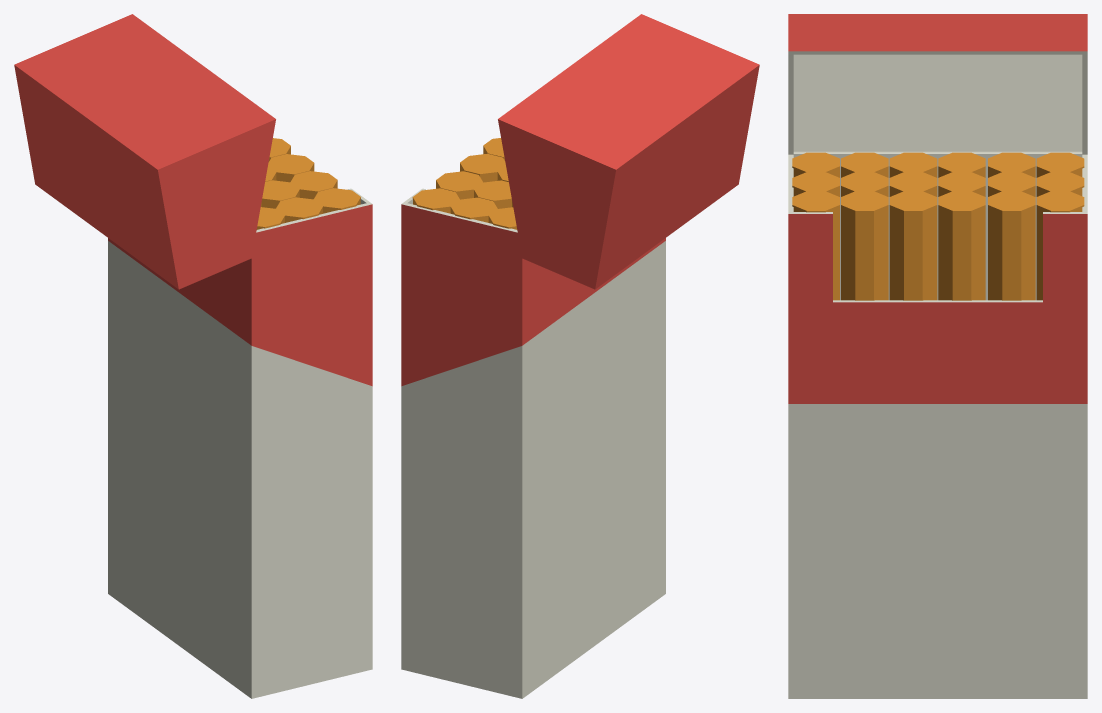
File: cigpack.glb
3 views of the same model, side by side, from view 1: azimuth 30°, elevation 25°; view 2: azimuth 150°, elevation 25°; view 3: azimuth 270°, elevation 25° (orthographic). The views are drawn at different scales.
Parts seen in each view (by area): view 1: Cube.020, Cube.021, Cube.002, Cube.004, Cube.005, Cube.010, Cube.013; view 2: Cube.020, Cube.021, Cube.006, Cube.007, Cube.012, Cube.003, Cube.008; view 3: Cube.020, Cube.001, Cube.021, Cube.004, Cube.006, Cube.002, Cube.007, Cube.003, Cube.005, Cube.016, Cube.011, Cube.014 (+9 smaller).
Boxes of the visible parts, bbox=[...] form: Cube.020: bbox=[108, 188, 372, 698]; Cube.021: bbox=[14, 14, 275, 289]; Cube.002: bbox=[290, 171, 337, 199]; Cube.004: bbox=[268, 154, 314, 182]; Cube.005: bbox=[313, 188, 360, 213]; Cube.010: bbox=[276, 197, 322, 222]; Cube.013: bbox=[261, 180, 299, 208]; Cube.020: bbox=[401, 188, 665, 698]; Cube.021: bbox=[498, 14, 759, 289]; Cube.006: bbox=[460, 153, 505, 182]; Cube.007: bbox=[436, 171, 483, 199]; Cube.012: bbox=[450, 197, 497, 222]; Cube.003: bbox=[412, 188, 459, 213]; Cube.008: bbox=[474, 180, 511, 208]; Cube.020: bbox=[788, 152, 1087, 698]; Cube.001: bbox=[788, 51, 1087, 154]; Cube.021: bbox=[788, 14, 1087, 51]; Cube.004: bbox=[889, 191, 937, 300]; Cube.006: bbox=[938, 191, 985, 300]; Cube.002: bbox=[841, 191, 888, 300]; Cube.007: bbox=[988, 191, 1035, 300]; Cube.003: bbox=[1036, 191, 1084, 300]; Cube.005: bbox=[792, 191, 839, 300]; Cube.016: bbox=[889, 152, 937, 177]; Cube.011: bbox=[889, 172, 937, 196]; Cube.014: bbox=[841, 152, 888, 177].
Bounding box in the file's own units: 0.0954 × 0.2434 × 0.1104.
